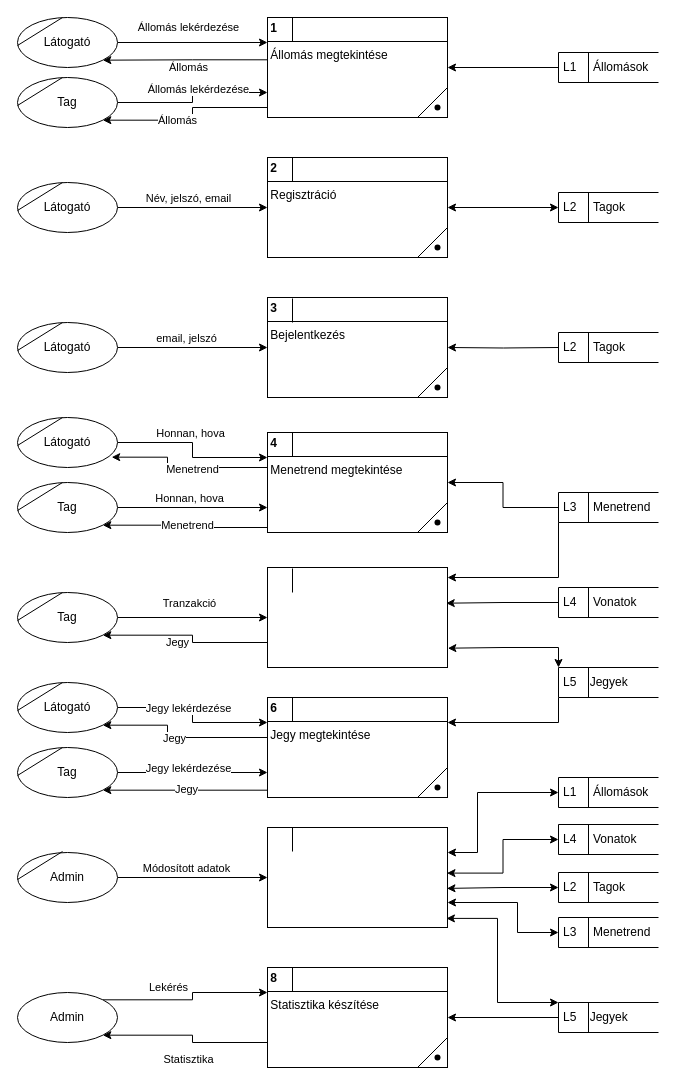
This 676x1086 diagram has some shape labels left out. The centre of each missing label's shape, as x and y in pixels:
5 Jegy vásárlás: point 357,617
7 Városok, állomások, vonatok, jegyek, menetrendek, tagok kezelése: point 357,877
